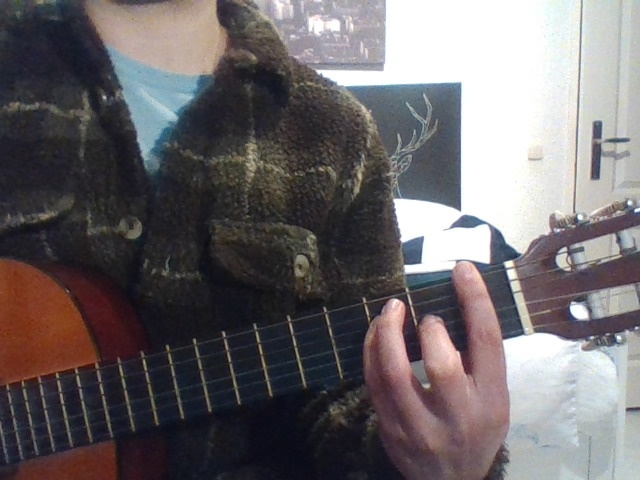F: (341, 249, 540, 480)
